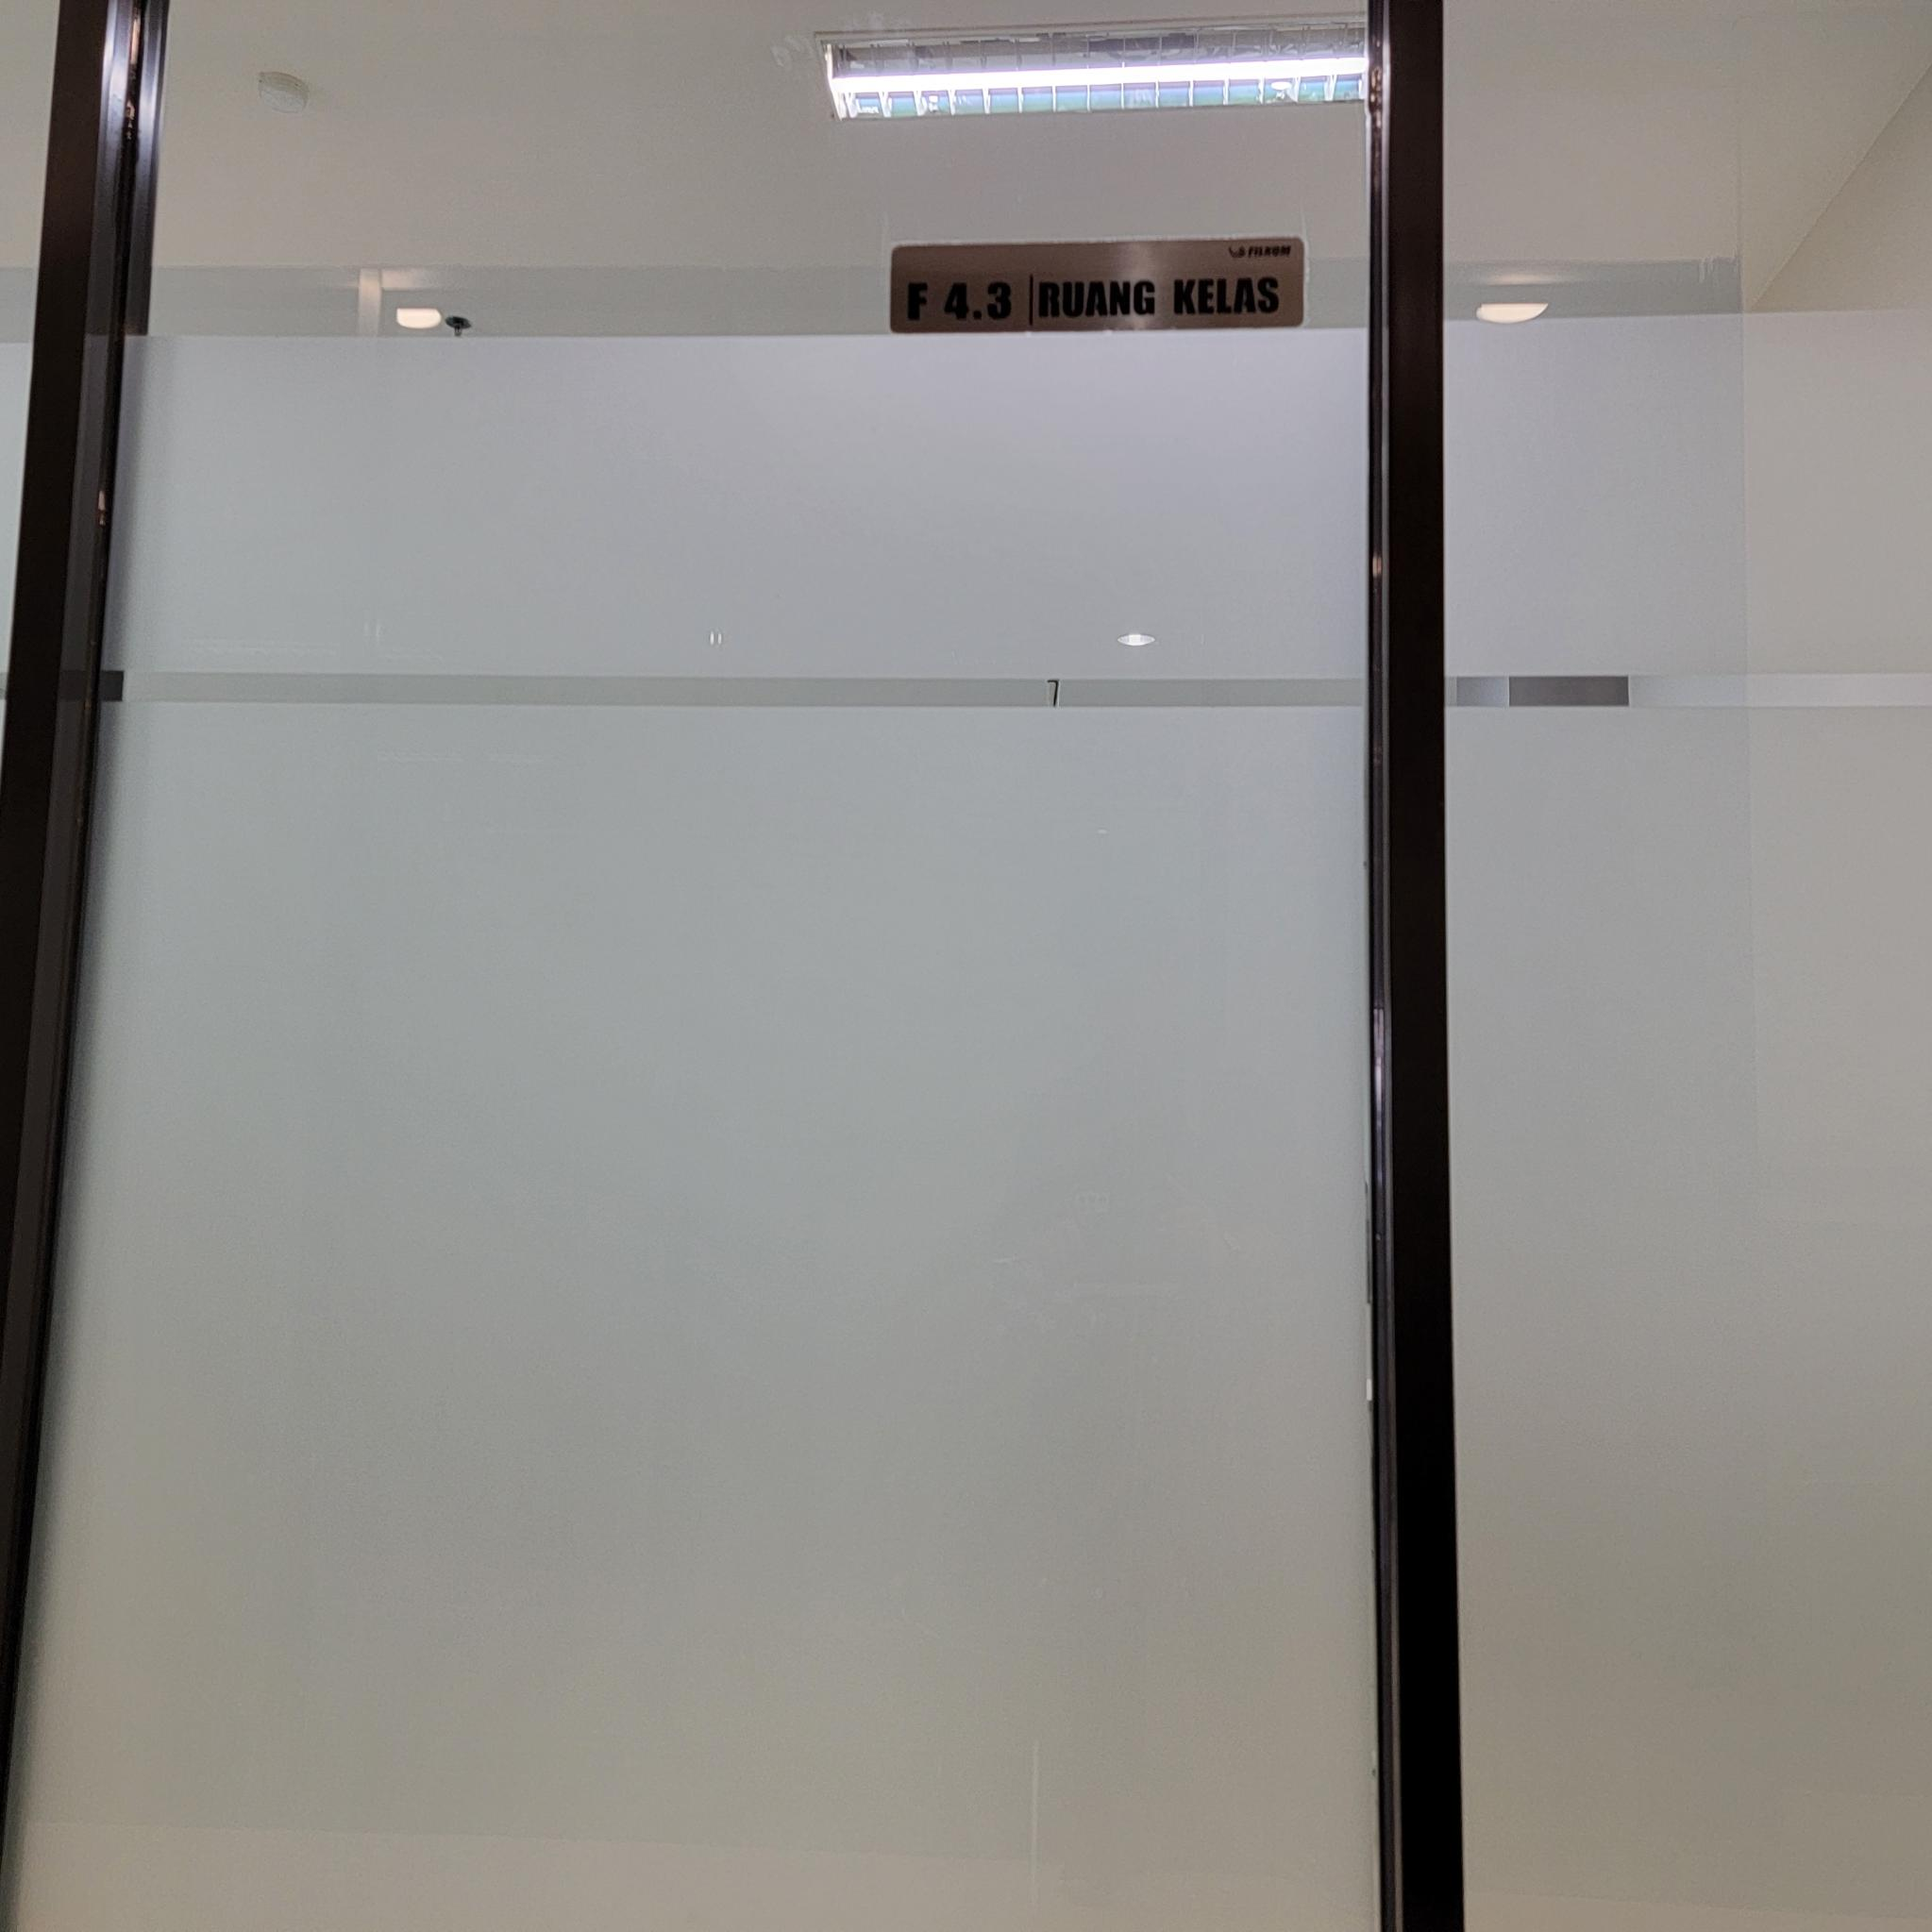plate: (890, 237, 1304, 333)
